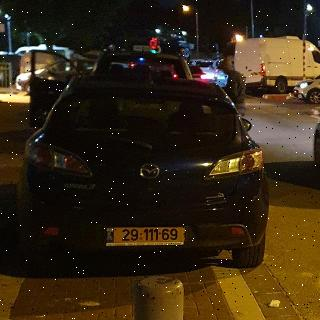LicensePlate: (115, 228, 185, 242)
